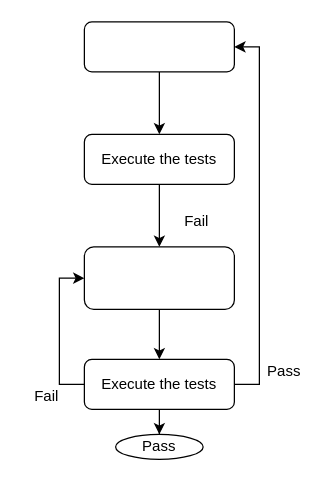
Image size: 330x481. Some labels were removed from this diagram. The centre of each missing label's shape, as x and y in pixels:
"Change code & Refactor" belongs at [158,277].
"Implement a test" belongs at [158,46].
